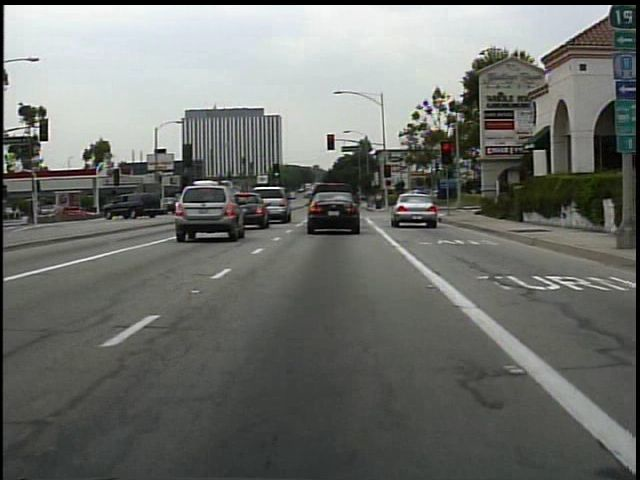person: (373, 191, 385, 212)
